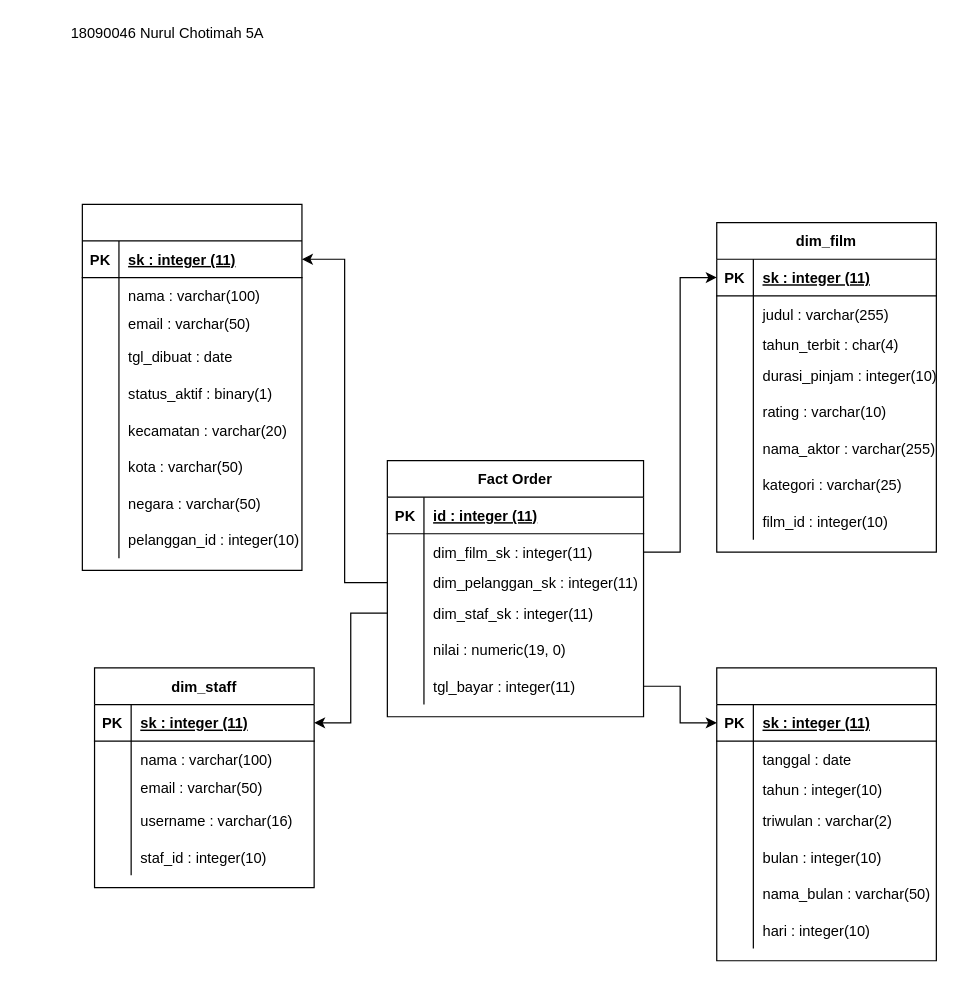
Image size: 958x982. Some labels were removed from this diagram. The box of each missing label's shape, as (x1, y1, x2, y2) in pixels:
dim_pelanggan: (81, 203, 302, 570)
dim_tanggal: (716, 667, 936, 961)
